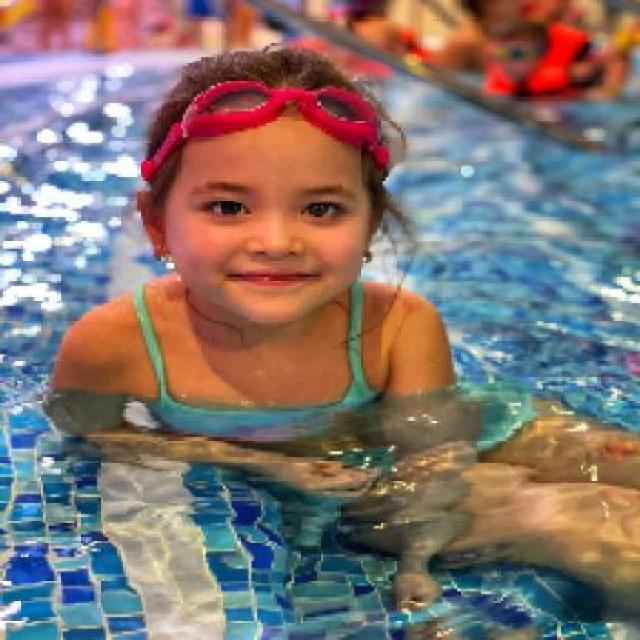child: (52, 46, 638, 592)
